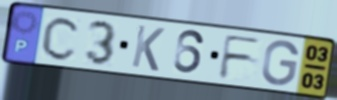3: (84, 19, 119, 67)
6: (172, 28, 205, 78)
C: (39, 15, 83, 62)
F: (216, 33, 264, 81)
G: (259, 39, 301, 88)
K: (129, 23, 167, 74)
